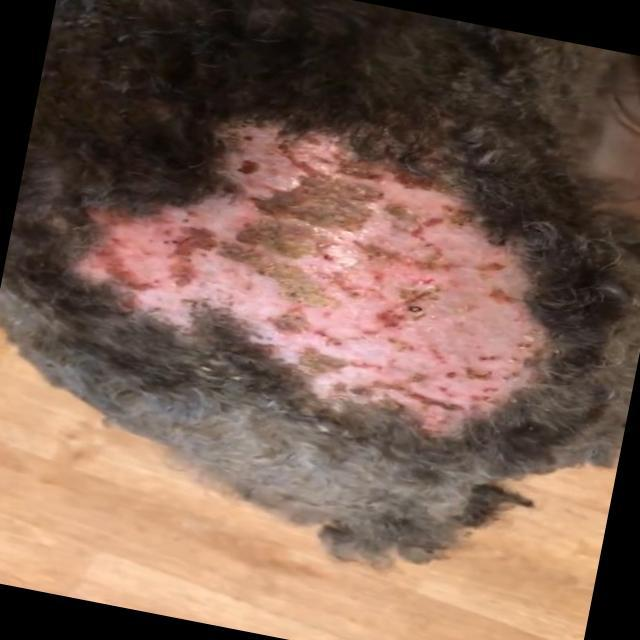allergic dermatitis: (84, 110, 536, 441)
